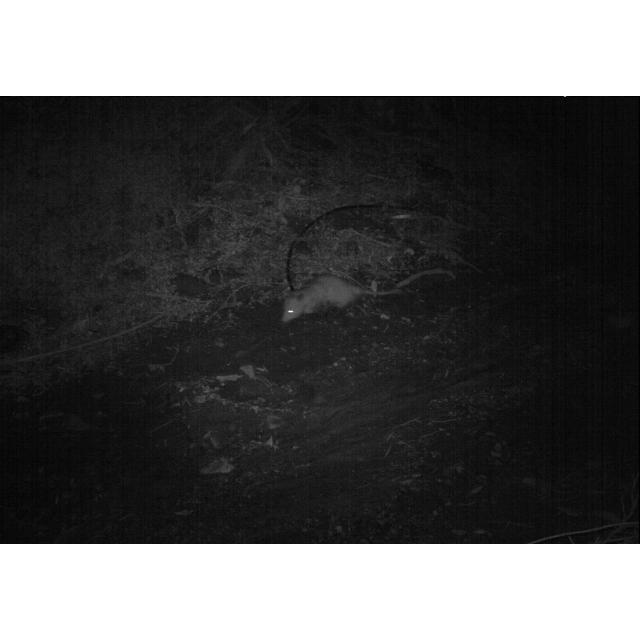animals: (279, 267, 459, 327)
